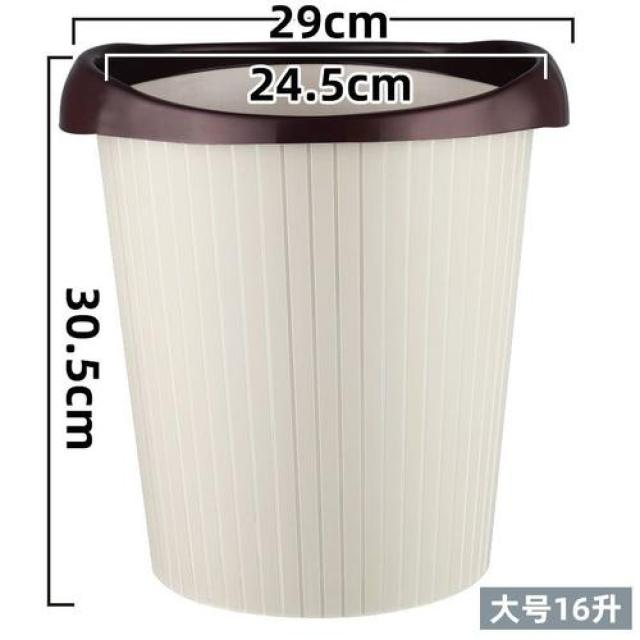dustbin: (57, 28, 581, 626)
